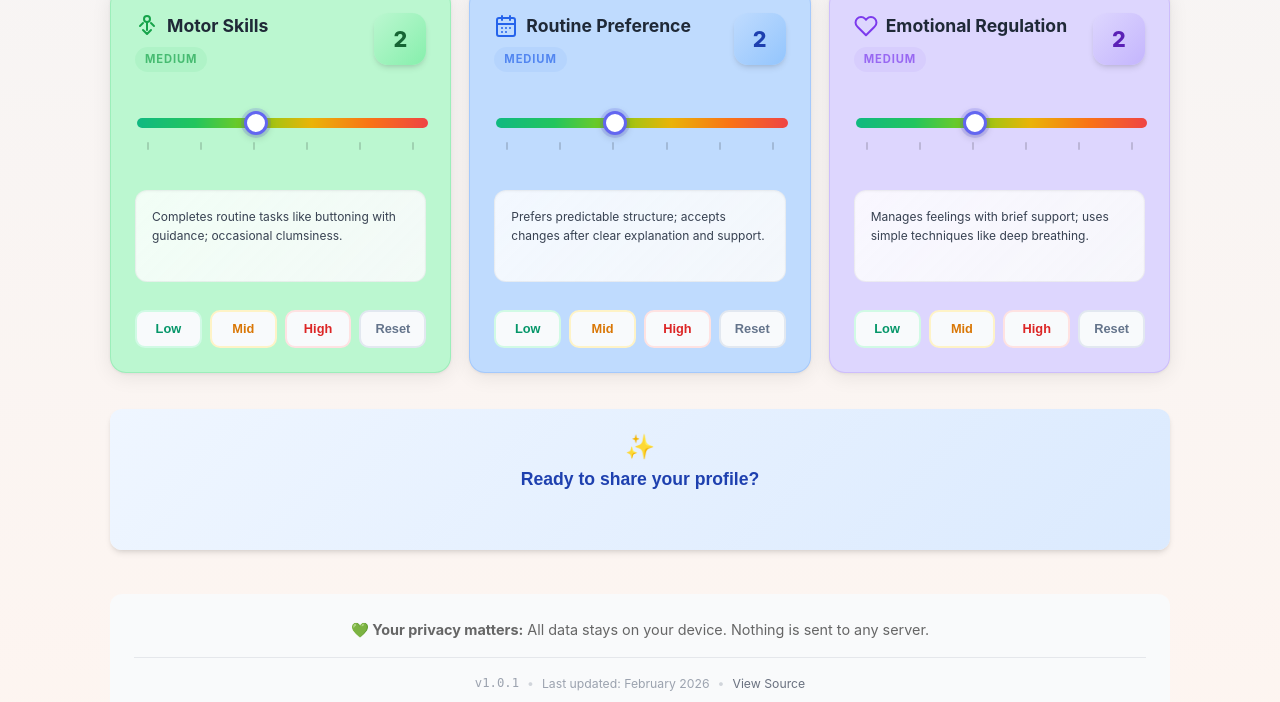
it: Application Integration Tests › Plaintext Export › should toggle plaintext view when link is clicked
(page scrolled)
Expected: the text "Ready to share your profile?" is shown, [521,469,759,490]
What coordinates should you click on to do the following:
click the button "✨ Ready to share your profile?"
I would click on:
 (640, 479)
Its box is [110,409,1170,550].
(page scrolled)
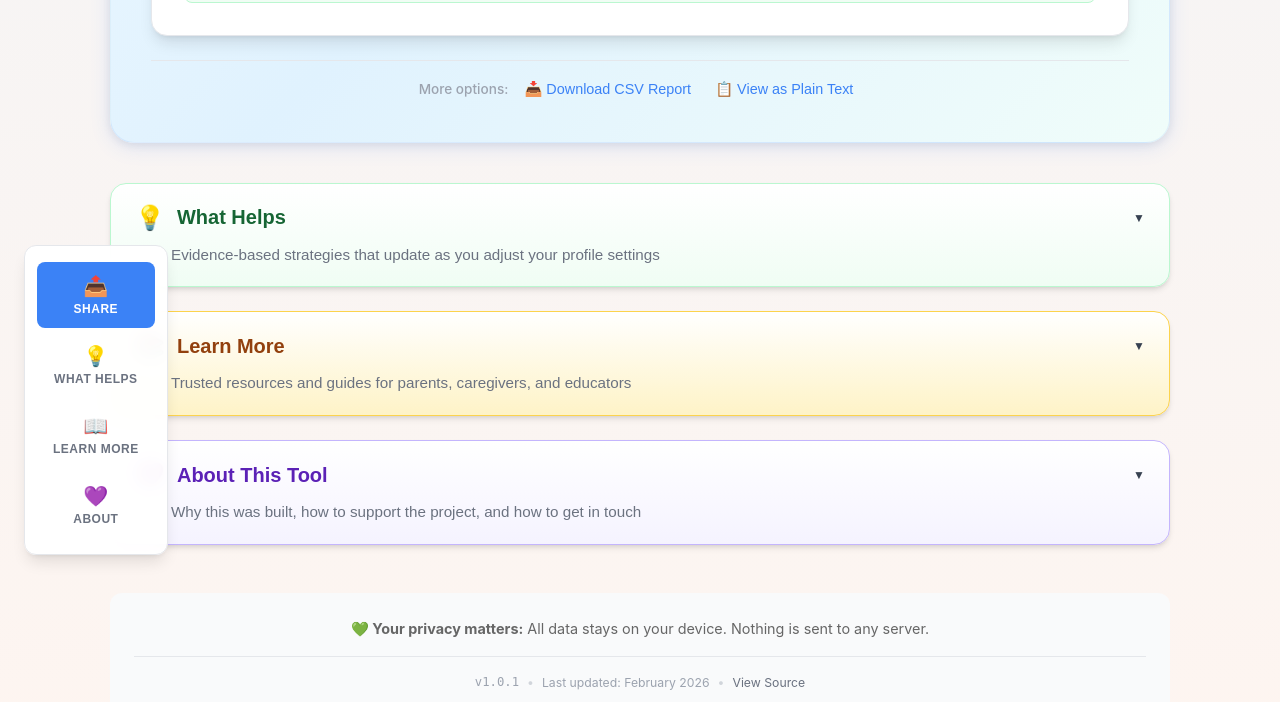
What coordinates should you click on to do the following:
click the button "📋 View as Plain Text"
I would click on:
 (784, 89)
Its box is [707,77,861,102].
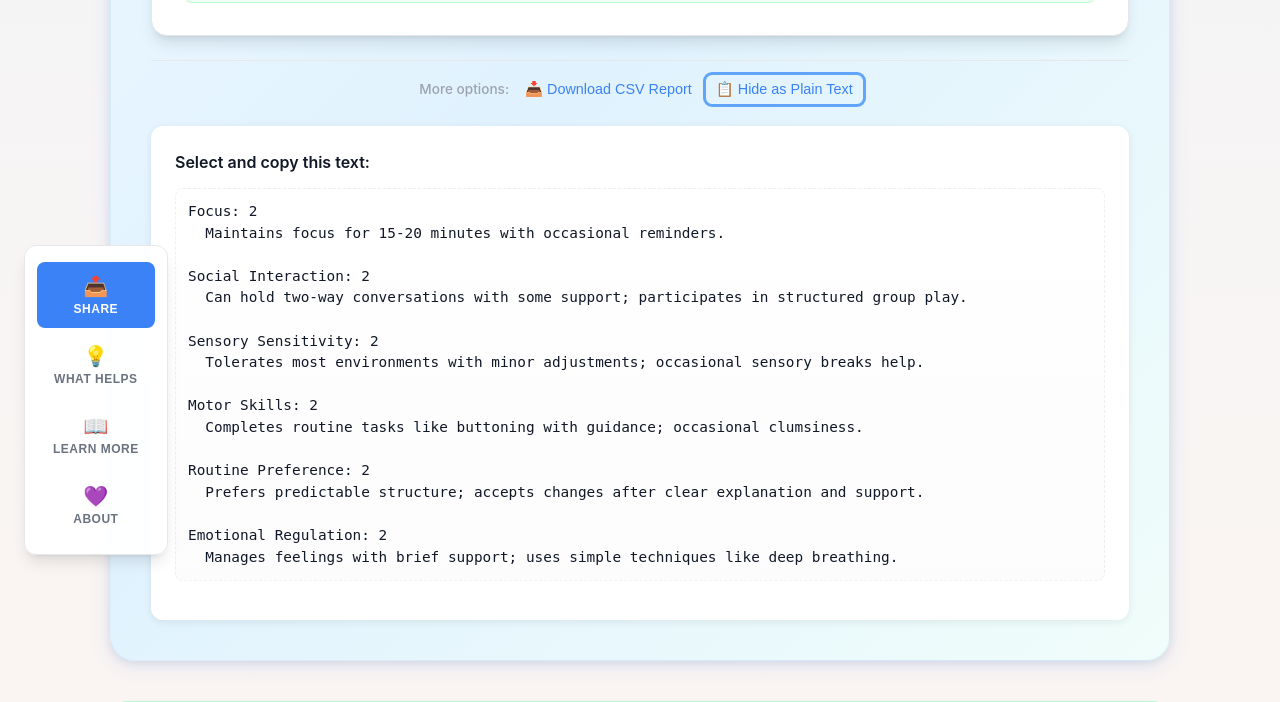
Expected: the text "Select and copy this text:" is shown, [175,152,370,172]
